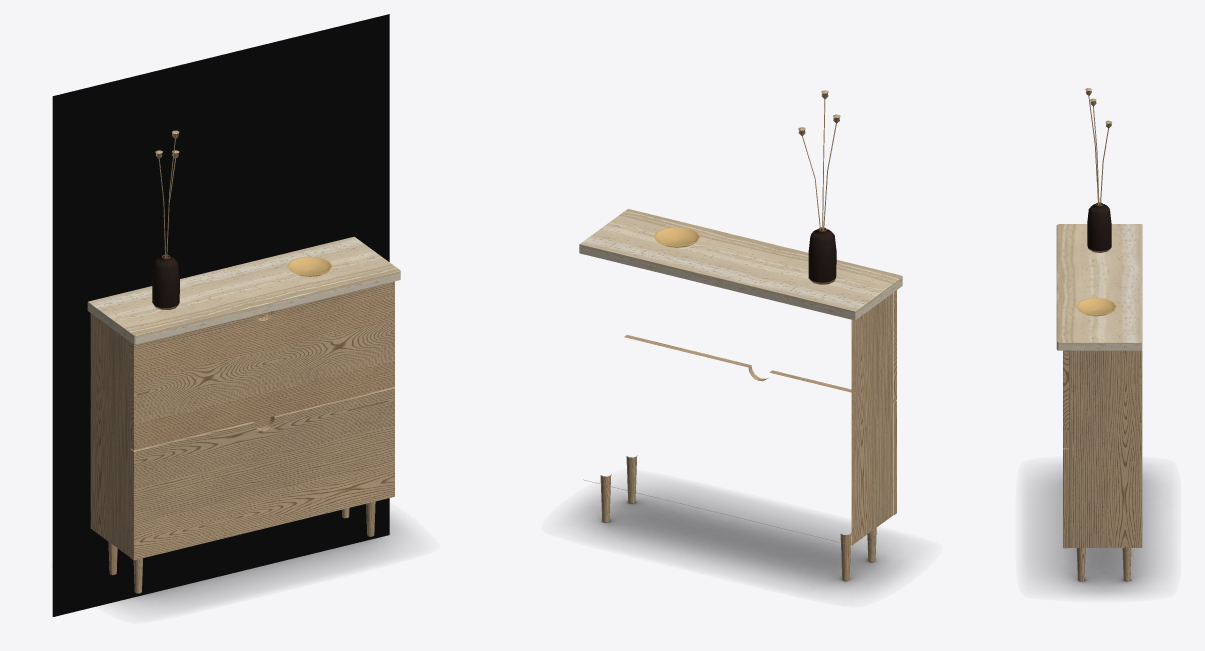
Rendered from shoe_cabinet.glb.
3 views of the same model, side by side, from view 1: azimuth 30°, elevation 25°; view 2: azimuth 150°, elevation 25°; view 3: azimuth 270°, elevation 25° (orthographic). The views are drawn at different scales.
Parts seen in each view (by area): view 1: shoe_cabinet_Shadow, shoe_cabinet_LOD0; view 2: shoe_cabinet_LOD0, shoe_cabinet_Shadow; view 3: shoe_cabinet_LOD0, shoe_cabinet_Shadow.
Boxes of the visible parts, box(x1,y1,x2,y2) form: shoe_cabinet_Shadow: box(52, 14, 404, 616); shoe_cabinet_LOD0: box(87, 130, 400, 593); shoe_cabinet_LOD0: box(579, 90, 902, 580); shoe_cabinet_Shadow: box(572, 484, 907, 592); shoe_cabinet_LOD0: box(1056, 88, 1142, 581); shoe_cabinet_Shadow: box(1028, 466, 1164, 594).
Size of what is drawn, in the model's own units: 1.24 by 1.71 by 0.6.
Materials: 6 (5 with a texture image).
